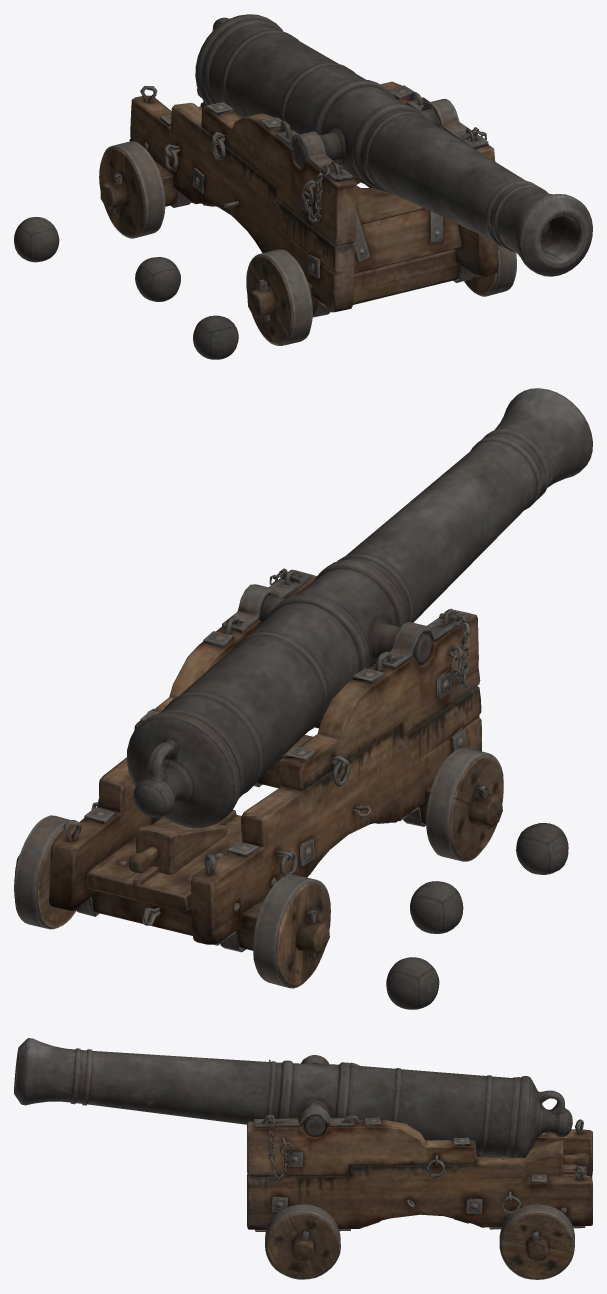
The model's file is cannon_01.glb.
3 views of the same model, one above another, from view 1: azimuth 30°, elevation 25°; view 2: azimuth 150°, elevation 25°; view 3: azimuth 270°, elevation 25° (orthographic). The views are drawn at different scales.
Parts seen in each view (by area): view 1: cannon_01_frame, cannon_01_barrel, cannon_01_wheel_02, cannon_01_wheel_01, cannon_01_ball_02, cannon_01_ball_03, cannon_01_ball_01, cannon_01_wheel_03; view 2: cannon_01_frame, cannon_01_barrel, cannon_01_wheel_01, cannon_01_wheel_02, cannon_01_wheel_04, cannon_01_pusherblock, cannon_01_ball_02, cannon_01_ball_03, cannon_01_ball_01; view 3: cannon_01_barrel, cannon_01_frame, cannon_01_wheel_04, cannon_01_wheel_03, cannon_01_pusherblock.
Boxes of the visible parts, bbox=[...] form: cannon_01_frame: bbox=[100, 81, 498, 321]; cannon_01_barrel: bbox=[195, 14, 592, 276]; cannon_01_wheel_02: bbox=[99, 141, 165, 238]; cannon_01_wheel_01: bbox=[246, 249, 312, 345]; cannon_01_ball_02: bbox=[135, 257, 180, 301]; cannon_01_ball_03: bbox=[14, 217, 59, 262]; cannon_01_ball_01: bbox=[193, 315, 238, 359]; cannon_01_wheel_03: bbox=[464, 245, 516, 296]; cannon_01_frame: bbox=[15, 568, 502, 958]; cannon_01_barrel: bbox=[126, 388, 592, 828]; cannon_01_wheel_01: bbox=[426, 748, 503, 861]; cannon_01_wheel_02: bbox=[253, 874, 330, 988]; cannon_01_wheel_04: bbox=[14, 815, 75, 929]; cannon_01_pusherblock: bbox=[128, 821, 227, 874]; cannon_01_ball_02: bbox=[410, 881, 463, 933]; cannon_01_ball_03: bbox=[386, 957, 439, 1009]; cannon_01_ball_01: bbox=[516, 823, 568, 874]; cannon_01_barrel: bbox=[14, 1038, 572, 1158]; cannon_01_frame: bbox=[247, 1055, 592, 1263]; cannon_01_wheel_04: bbox=[499, 1204, 574, 1279]; cannon_01_wheel_03: bbox=[265, 1204, 340, 1279]; cannon_01_pusherblock: bbox=[500, 1140, 588, 1176].
Bounding box in the file's own units: 1.28 × 0.8588 × 2.3.
Materials: 1 (1 with a texture image).
